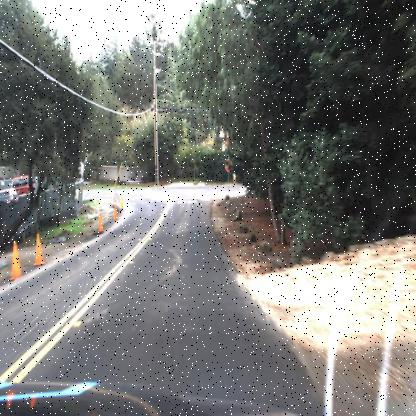car: (10, 170, 36, 200)
